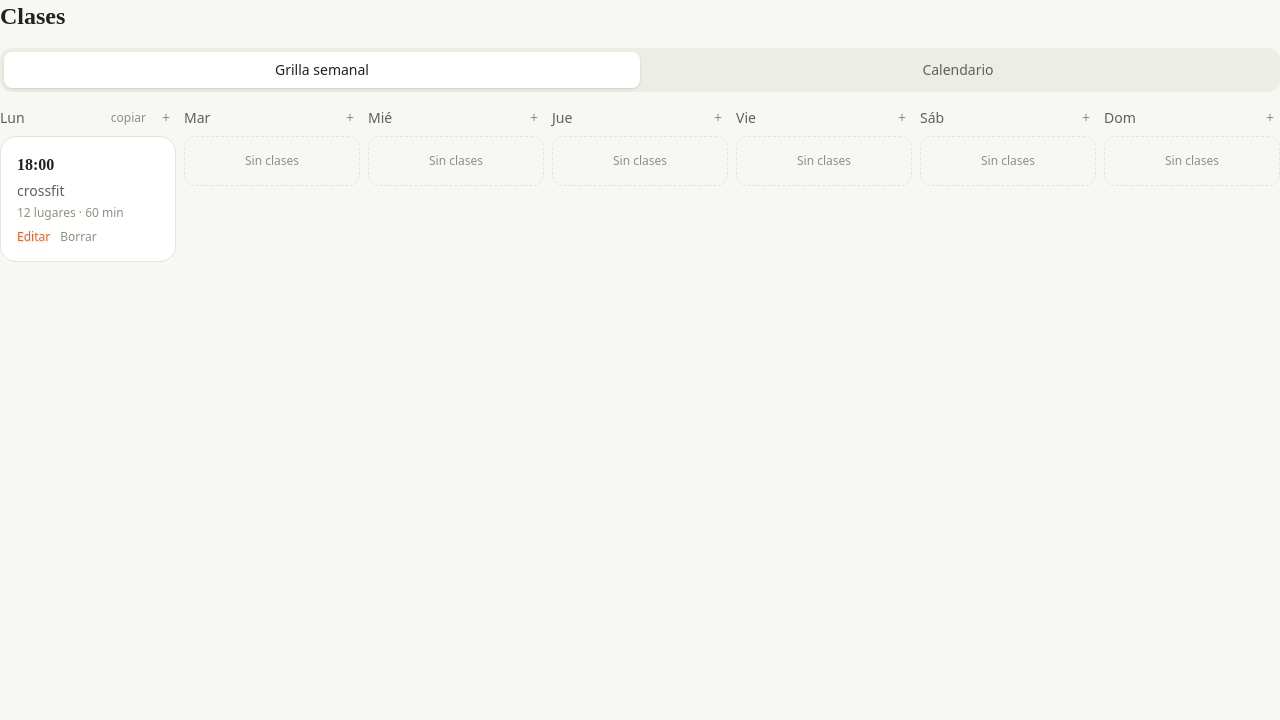
Scenario: Classes — grilla semanal (F3-06) › crear avisa si se superpone con otra clase, sin bloquear
Expected: the text "18:00" is shown, [17,153,54,177]
Click the button named "Agregar horario el Martes".
click(350, 118)  # box [340,108,360,128]
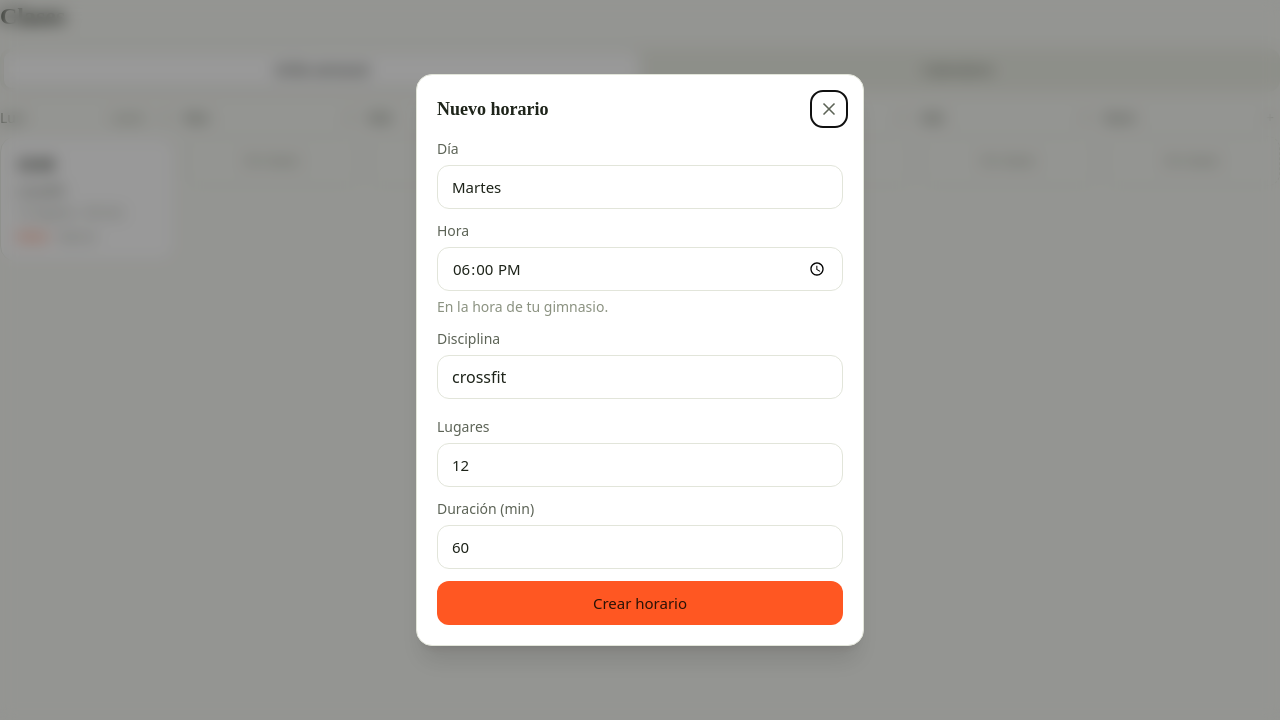
Click the button "Crear horario".
click(640, 603)  # box [437,581,843,625]
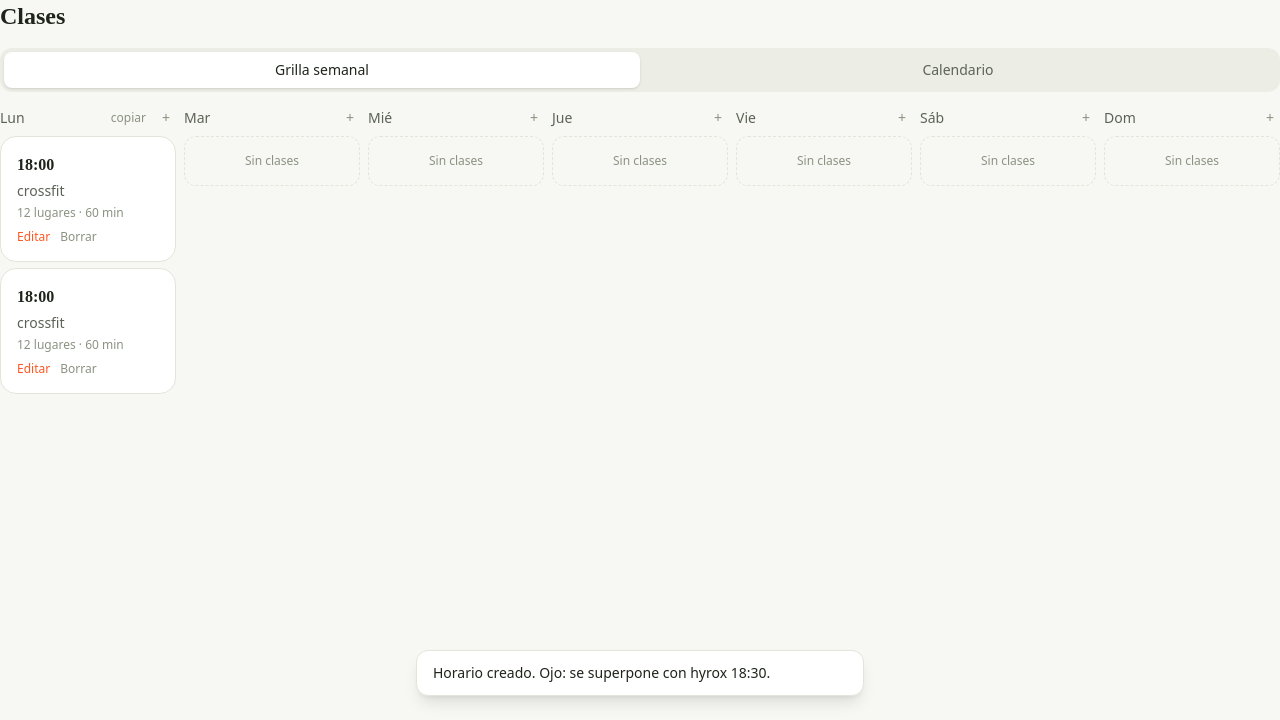
Result: the text "Horario creado. Ojo: se superpone con hyrox 18:30." is shown at [416,650,864,696]
